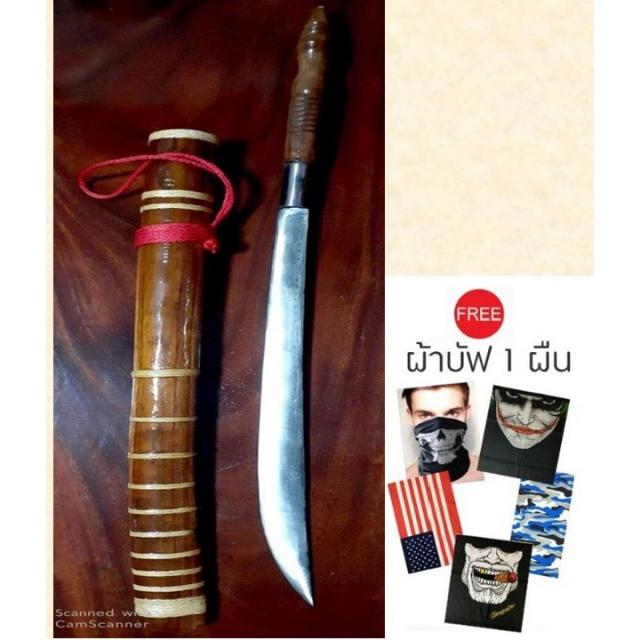long sword: (244, 0, 343, 614), (116, 117, 227, 620)
